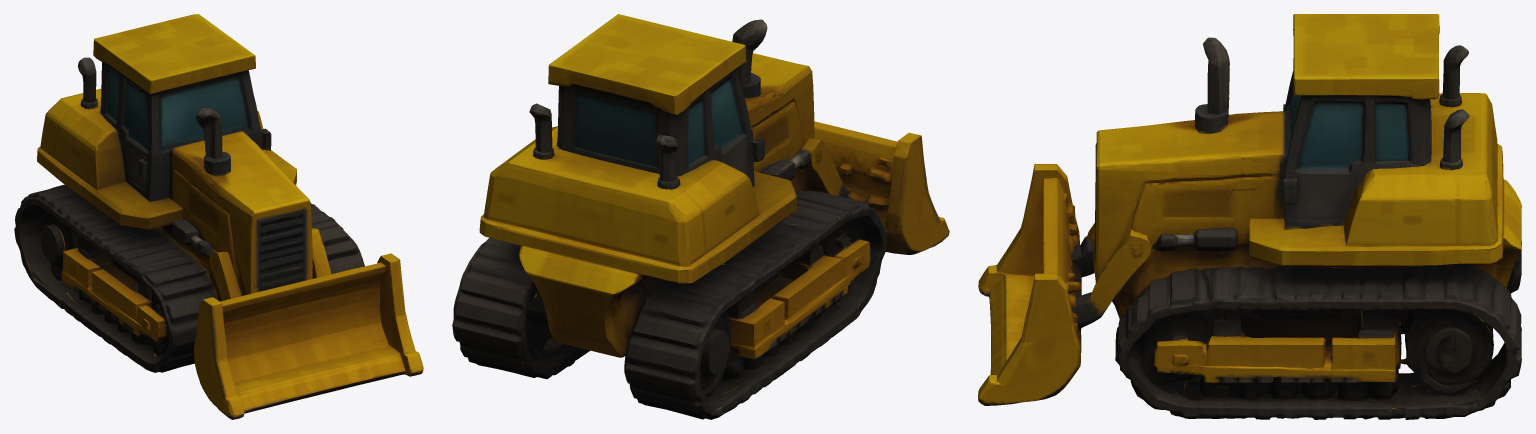
Rendered from bulldozer.glb.
The picture shows the model from 3 angles, left to right: view 1: azimuth 30°, elevation 25°; view 2: azimuth 150°, elevation 25°; view 3: azimuth 270°, elevation 25°; orthographic projection. The views are drawn at different scales.
Visible parts, largest first — view 1: world; view 2: world; view 3: world.
Boxes of the visible parts, x1,y1,x2,y2 form: world: [14, 14, 423, 419]; world: [452, 14, 949, 419]; world: [978, 14, 1521, 419].
Bounding box in the file's own units: 0.5488 × 0.6422 × 1.
Materials: 1 (1 with a texture image).
